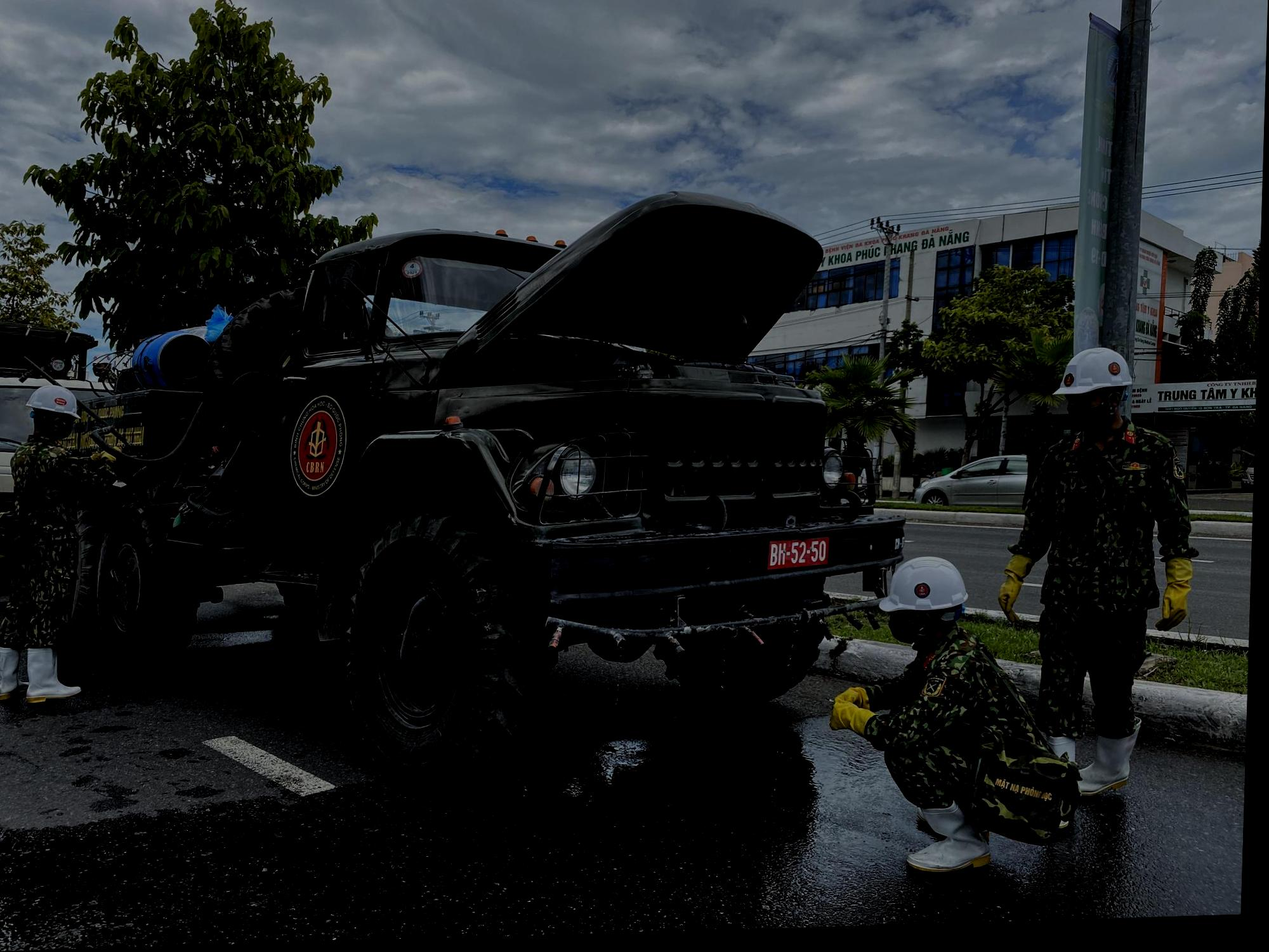License_Plate: (765, 536, 834, 575)
